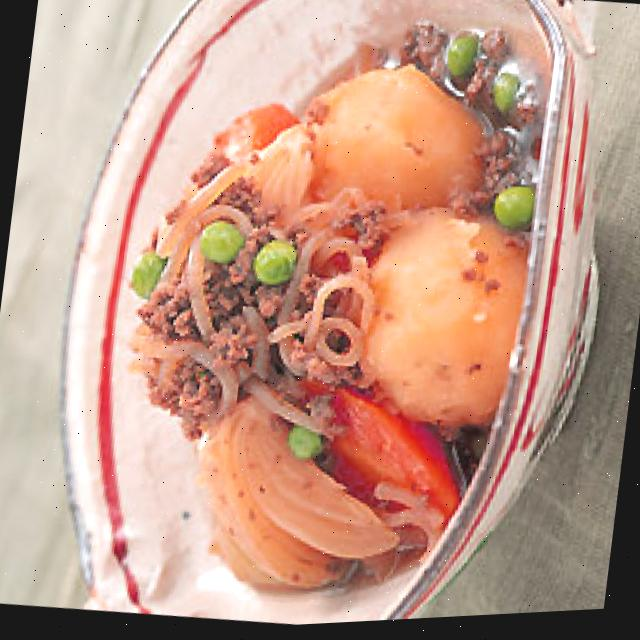牛肉菜式: (15, 0, 633, 639)
